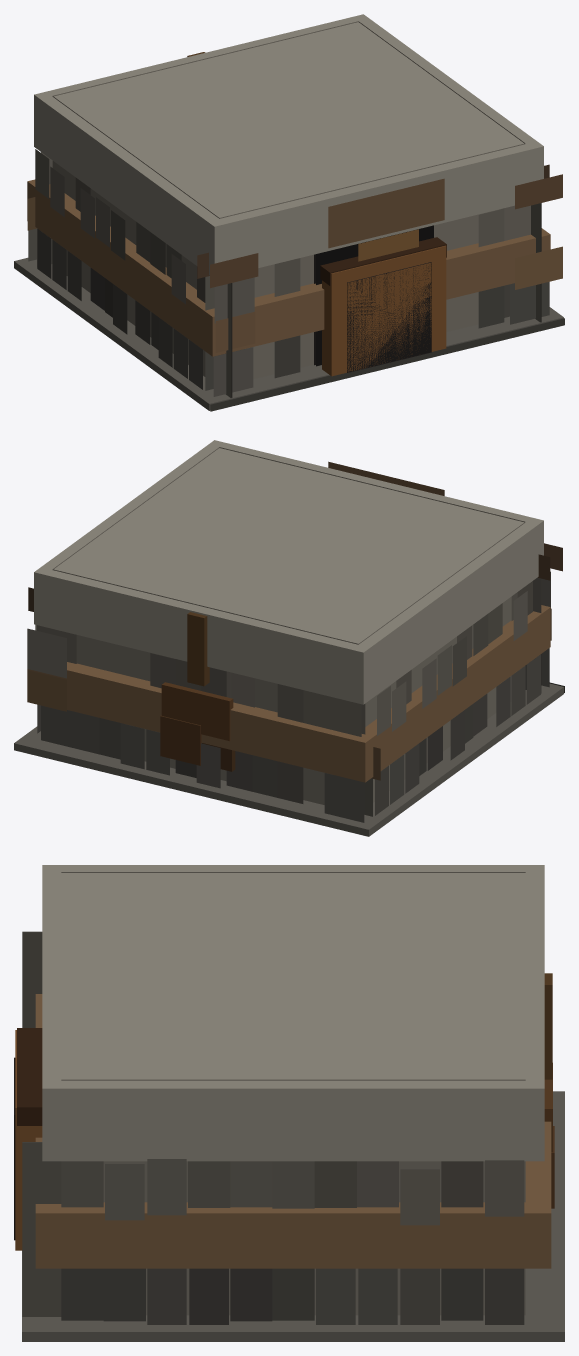
File: MimicChestSil.fbx
3 views of the same model, one above another, from view 1: azimuth 30°, elevation 25°; view 2: azimuth 150°, elevation 25°; view 3: azimuth 270°, elevation 25° (orthographic). The views are drawn at different scales.
Parts seen in each view (by area): view 1: MC_S_All; view 2: MC_S_All; view 3: MC_S_All.
Part boxes in pixels (x1,y1,x2,y2): MC_S_All: (14, 14, 564, 411); MC_S_All: (14, 440, 564, 836); MC_S_All: (14, 865, 564, 1341).
Bounding box in the file's own units: 42.04 × 20 × 40.64.
